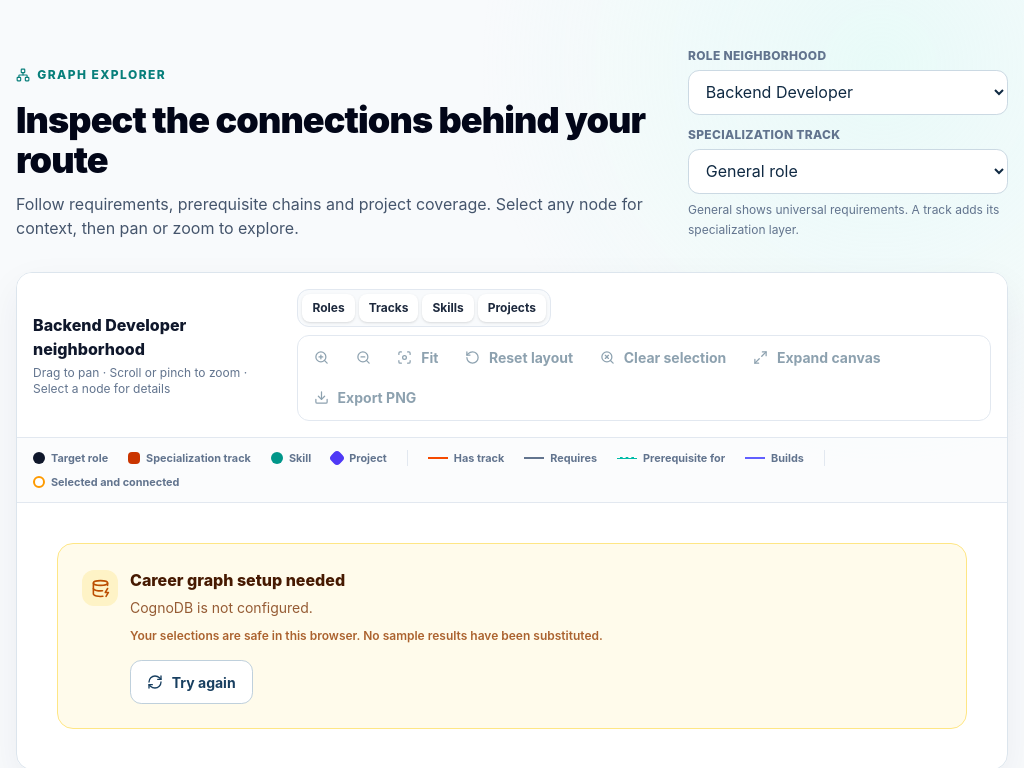
Test case: GraphExplorerPage › shows loading, database-error, retry, and empty graph states honestly
expect the message shows "Career graph setup needed": met, box [130, 570, 345, 590]
What coordinates should you click on to do the following:
click the button "Try again"
I would click on:
 (191, 682)
Its box is [130, 660, 253, 704].
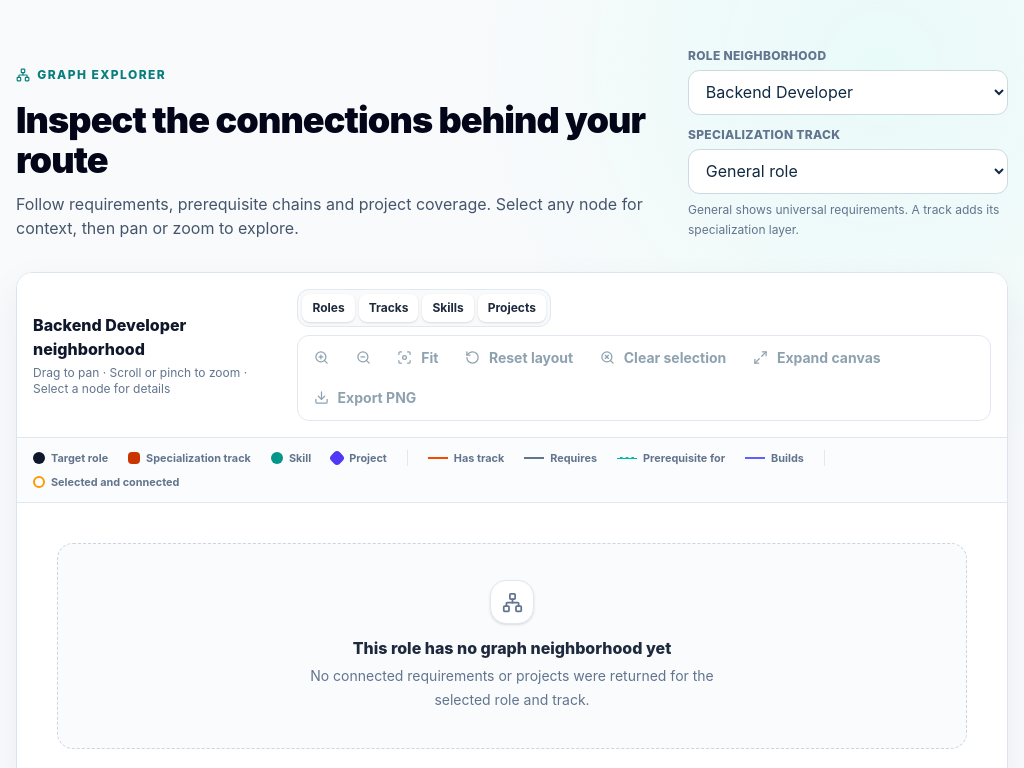
expect the heading "This role has no graph neighborhood yet" is shown: met, box [353, 638, 671, 658]
